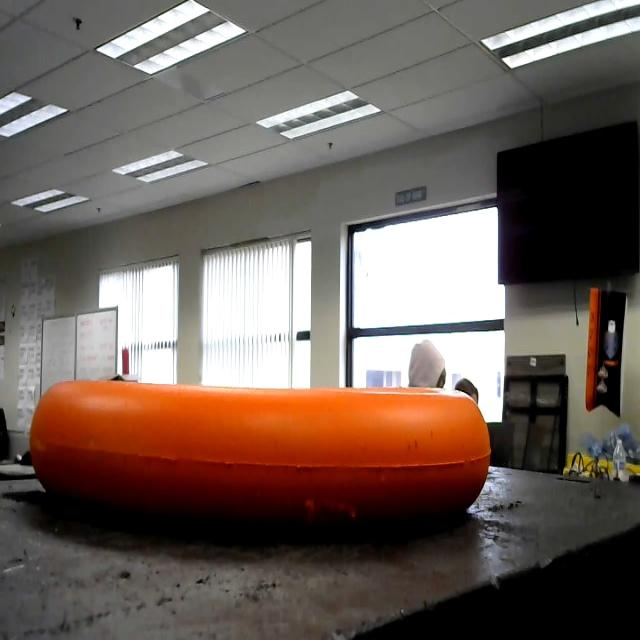note: (29, 356, 500, 543)
